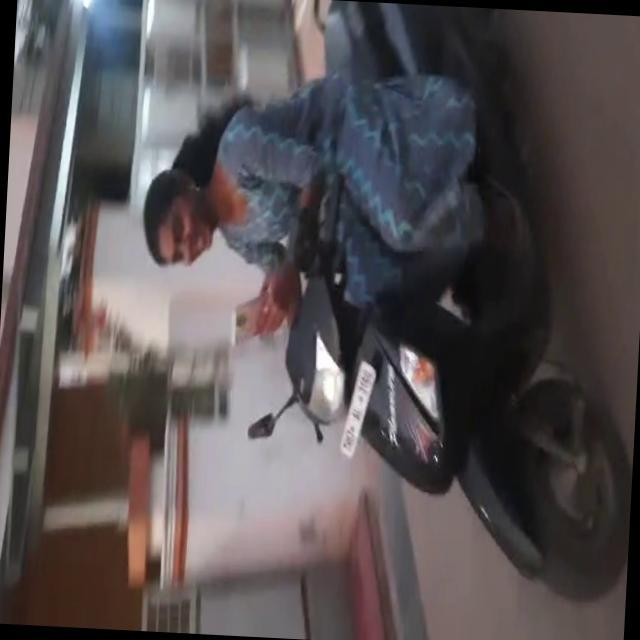USING_MOBILE: (137, 96, 290, 348)
